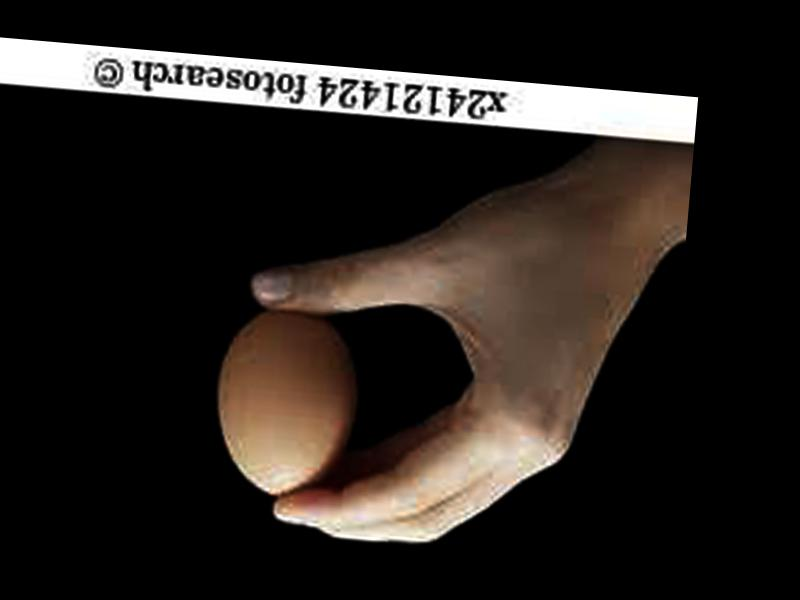Eggs: (209, 304, 363, 507)
